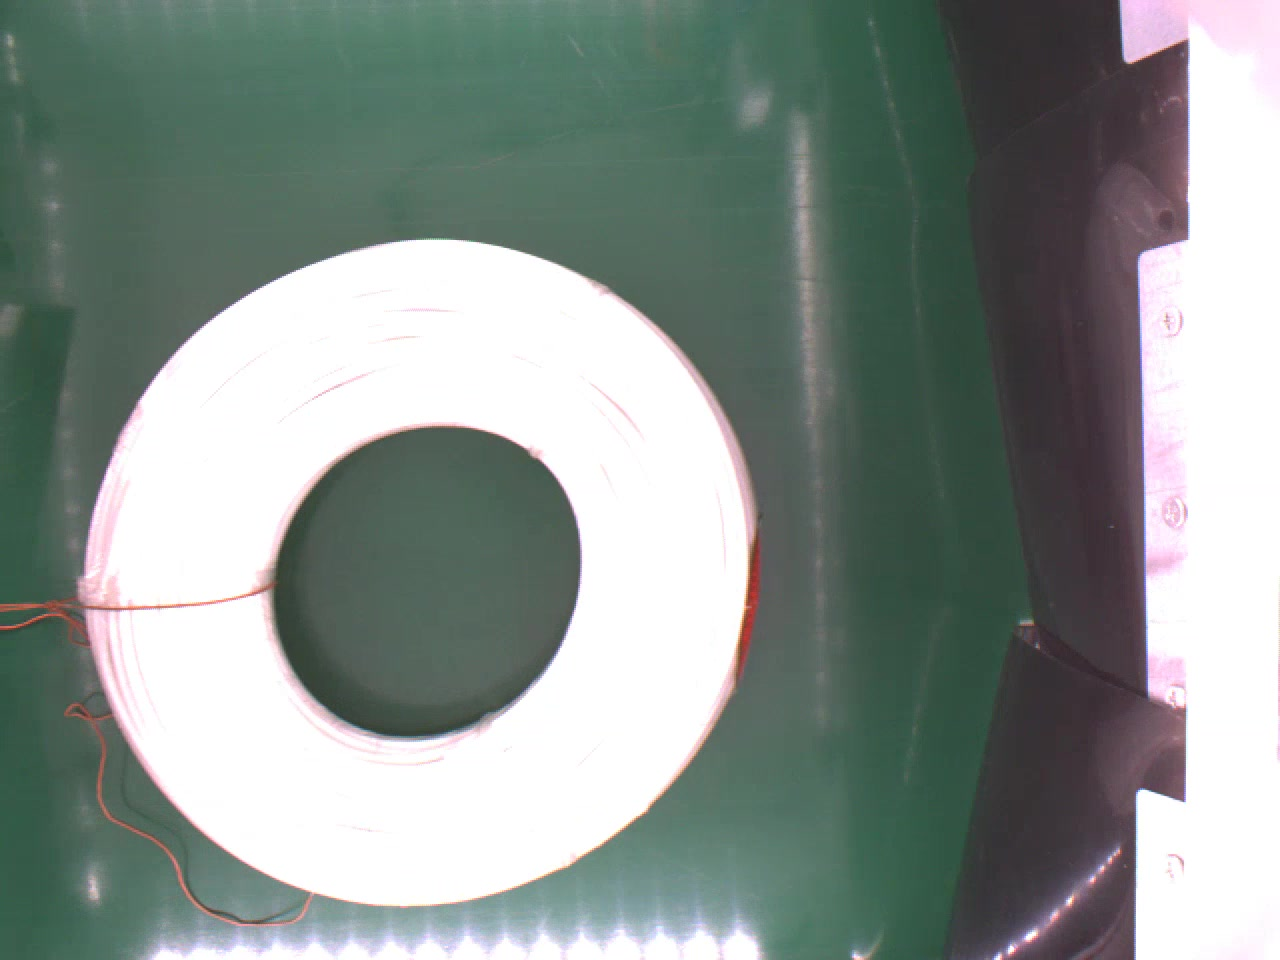white: (78, 233, 760, 908)
